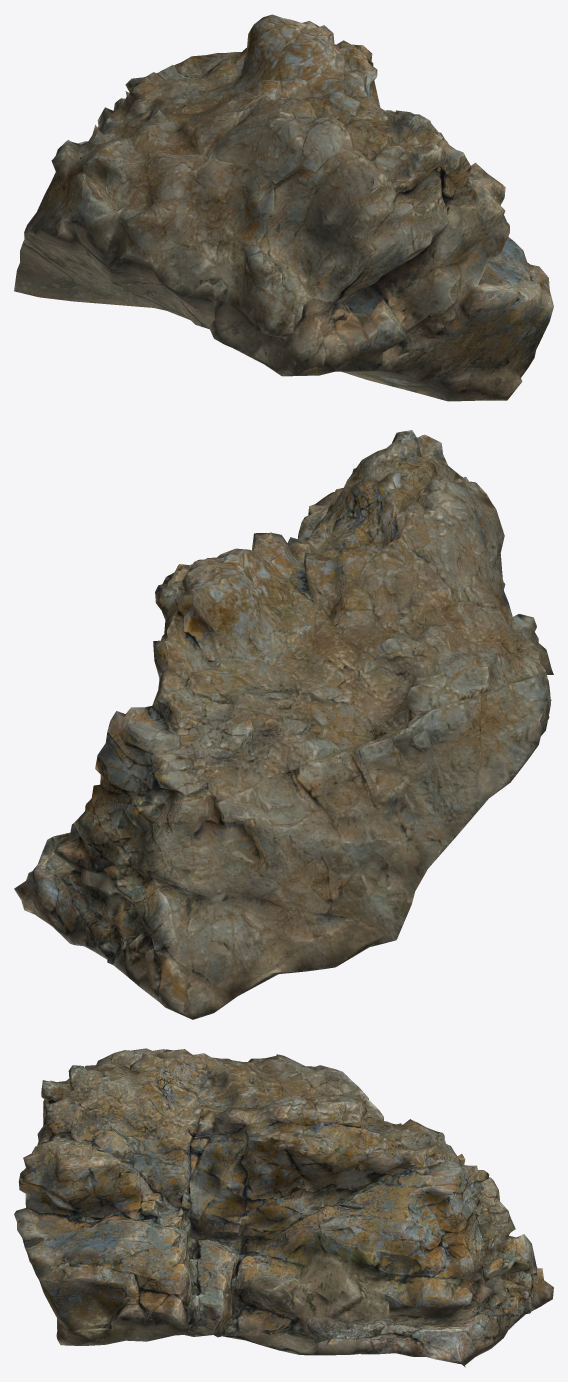
File: boulder_01.glb
3 views of the same model, one above another, from view 1: azimuth 30°, elevation 25°; view 2: azimuth 150°, elevation 25°; view 3: azimuth 270°, elevation 25° (orthographic). The views are drawn at different scales.
Visible parts, largest first — view 1: boulder_01; view 2: boulder_01; view 3: boulder_01.
Boxes of the visible parts, x1=… form: boulder_01: x1=14, y1=14, x2=553, y2=401; boulder_01: x1=14, y1=430, x2=553, y2=1019; boulder_01: x1=14, y1=1048, x2=553, y2=1367.
Bounding box in the file's own units: 1.28 × 1 × 1.83.
Materials: 1 (1 with a texture image).
